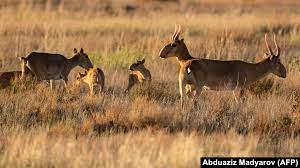saiga: (179, 32, 291, 109), (18, 43, 98, 95), (158, 23, 205, 62)
